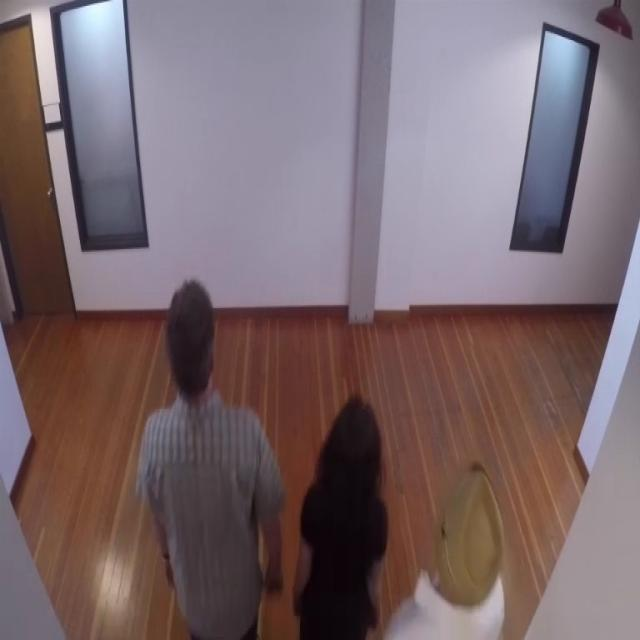Stupid: (135, 278, 286, 638), (292, 394, 388, 639)
